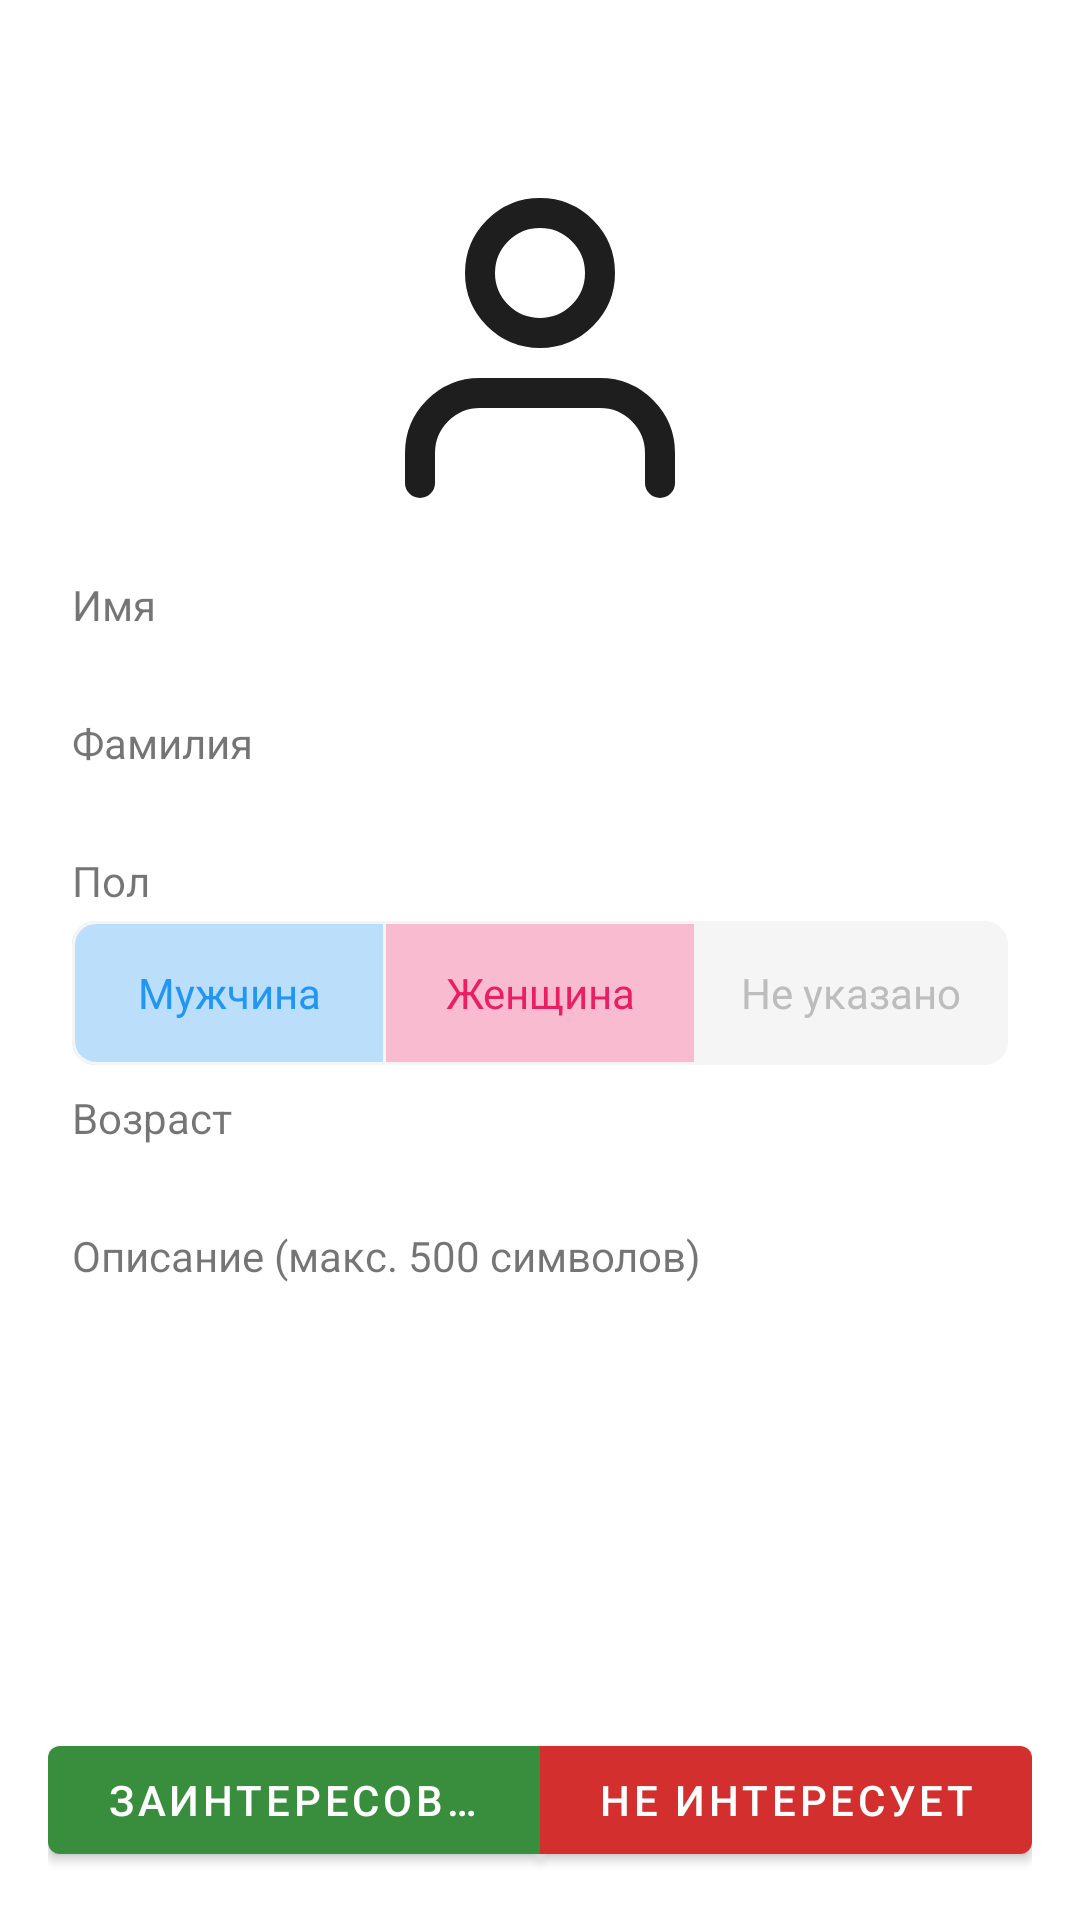

Icons on this 1080 × 1920 Android screen, each with the point to tap as point (x, y):
user: point (540, 348)
